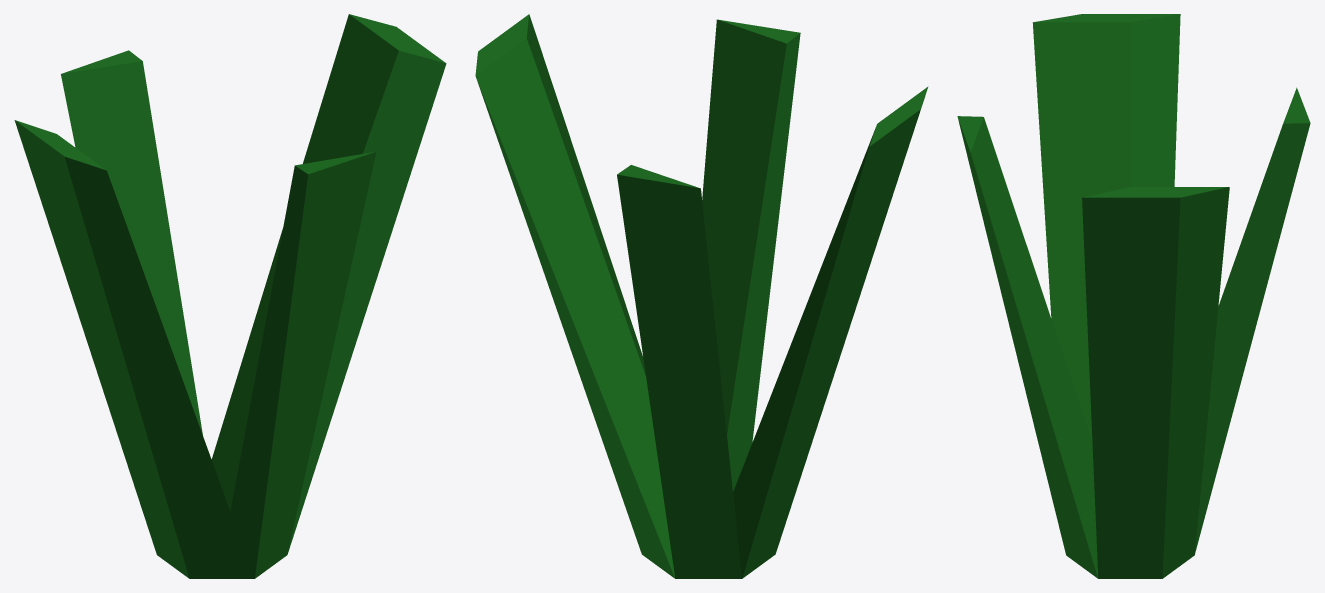
File: DecorePlant1.fbx
The picture shows the model from 3 angles, left to right: view 1: azimuth 30°, elevation 25°; view 2: azimuth 150°, elevation 25°; view 3: azimuth 270°, elevation 25°; orthographic projection. The views are drawn at different scales.
Parts seen in each view (by area): view 1: Carrot; view 2: Carrot; view 3: Carrot.
Boxes of the visible parts, x1,y1,x2,y2 form: Carrot: [14, 14, 446, 578]; Carrot: [475, 14, 928, 578]; Carrot: [957, 14, 1310, 578].
Bounding box in the file's own units: 0.1297 × 0.1496 × 0.1055.
